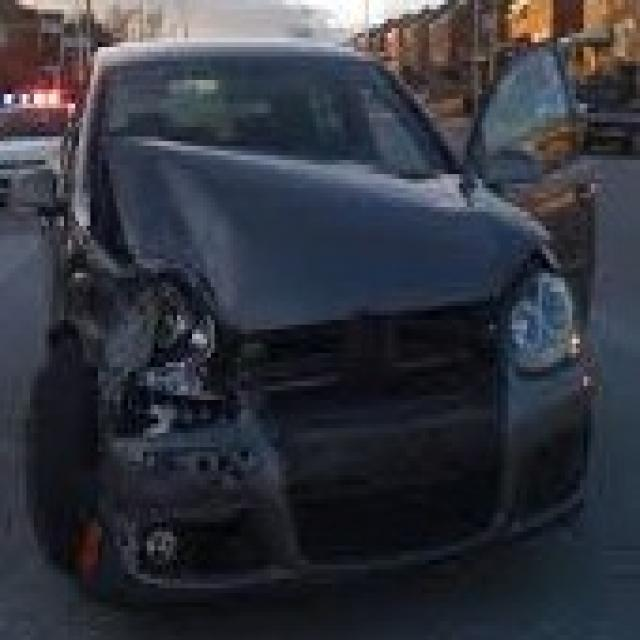minor: (43, 162, 262, 542)
